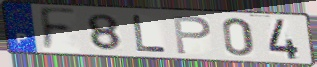0: (220, 16, 257, 59)
4: (267, 17, 302, 61)
8: (84, 13, 125, 52)
F: (38, 6, 78, 54)
L: (130, 14, 170, 54)
P: (171, 14, 213, 56)
